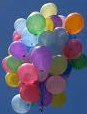Balloon: (65, 13, 86, 35), (31, 45, 50, 69), (17, 63, 37, 84), (11, 94, 31, 114), (45, 75, 66, 94), (27, 12, 45, 34), (64, 40, 82, 59), (9, 41, 28, 58), (40, 31, 57, 48)
